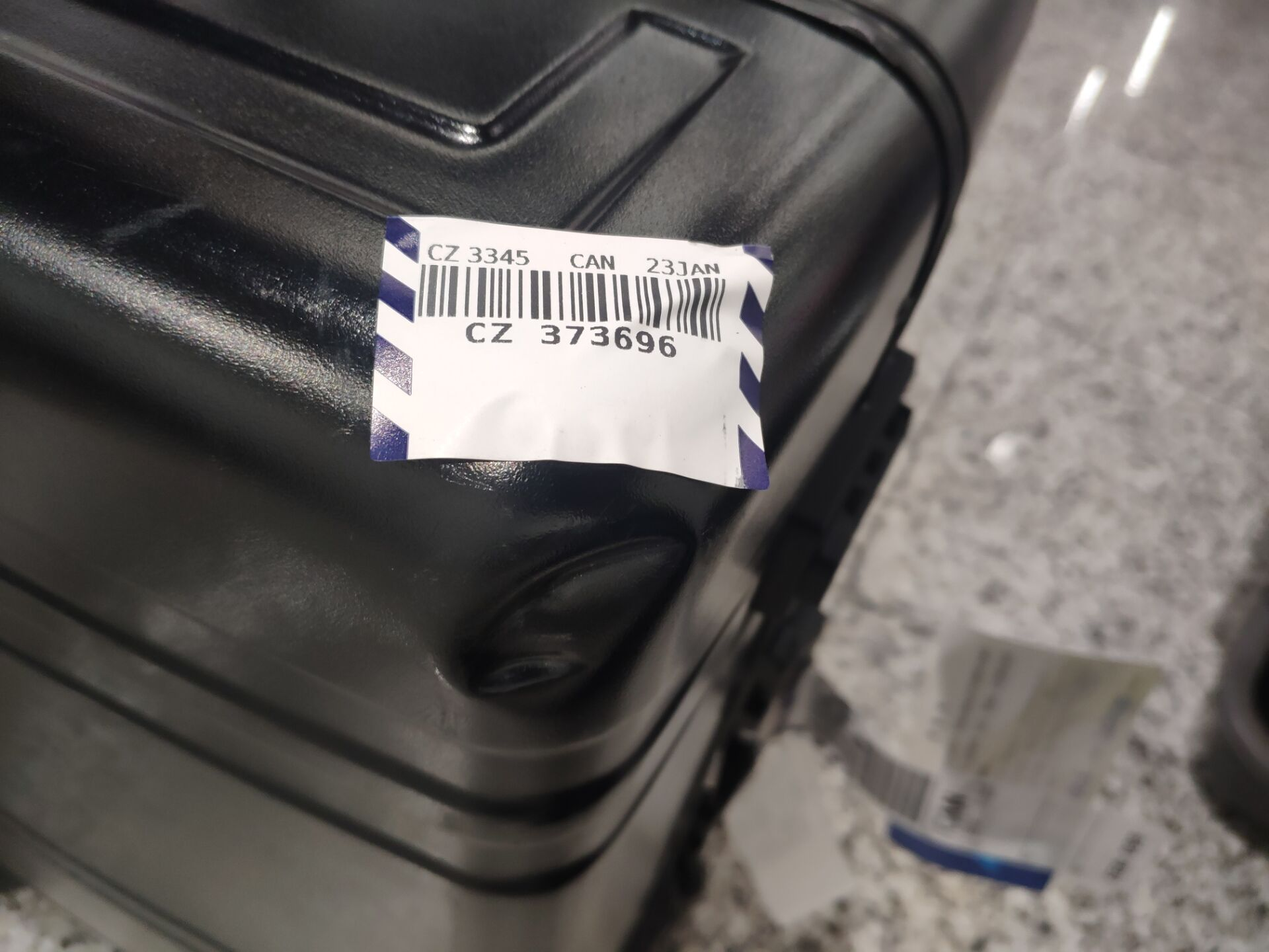hollow: (440, 522, 697, 700)
